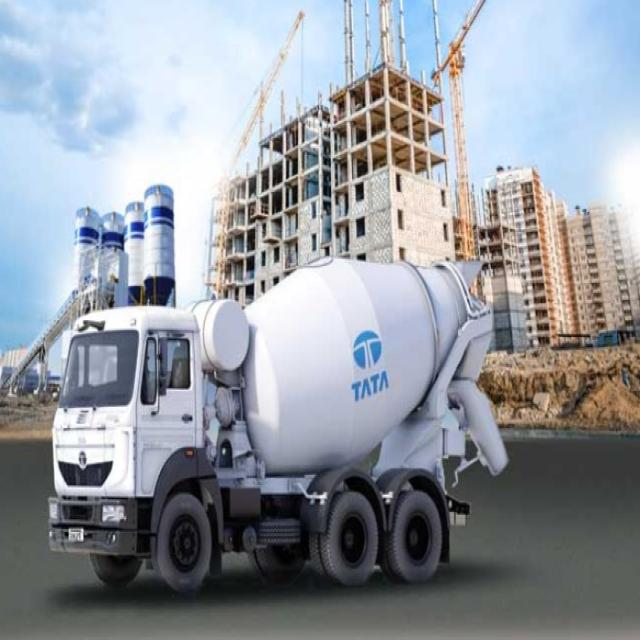truck: (49, 259, 508, 592)
